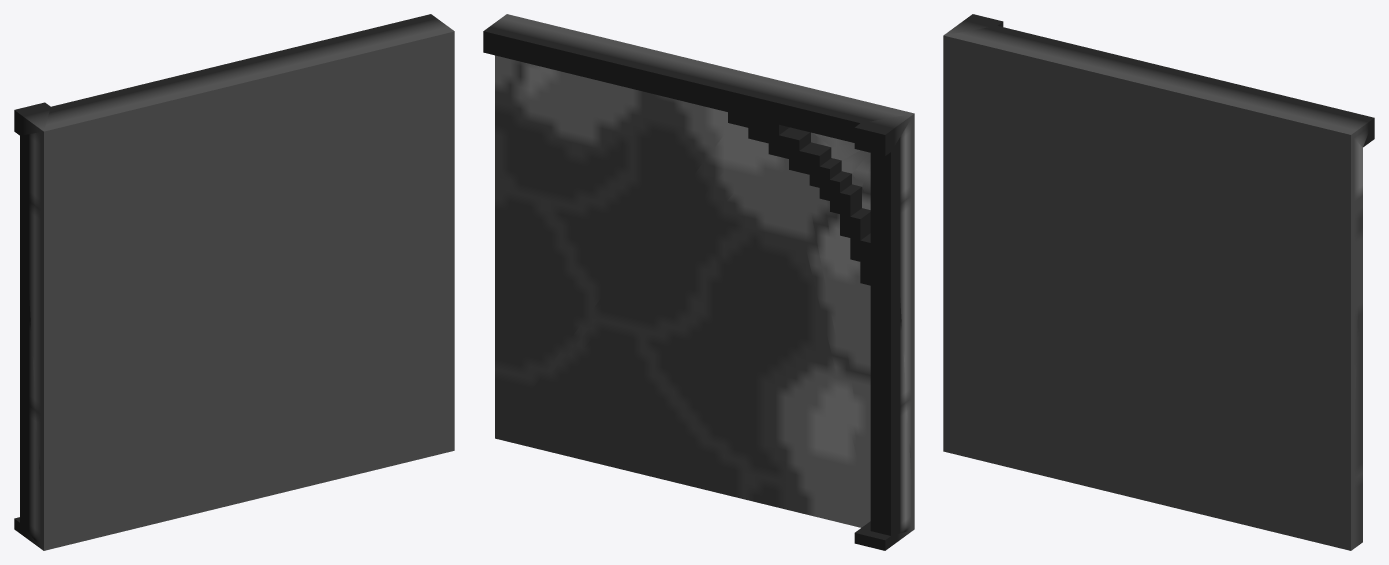
The model's file is WallNether_EL.fbx.
3 views of the same model, side by side, from view 1: azimuth 30°, elevation 25°; view 2: azimuth 150°, elevation 25°; view 3: azimuth 330°, elevation 25° (orthographic).
Parts seen in each view (by area): view 1: WallNether_EL.Merged; view 2: WallNether_EL.Merged; view 3: WallNether_EL.Merged.
Part boxes in pixels (left/top/right/bottom): WallNether_EL.Merged: left=14, top=14, right=454, bottom=550; WallNether_EL.Merged: left=483, top=14, right=914, bottom=550; WallNether_EL.Merged: left=943, top=14, right=1374, bottom=550.
Size of the model in its own units: 8000 by 7800 by 1000.
